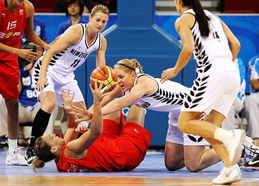fall: (31, 63, 148, 179)
